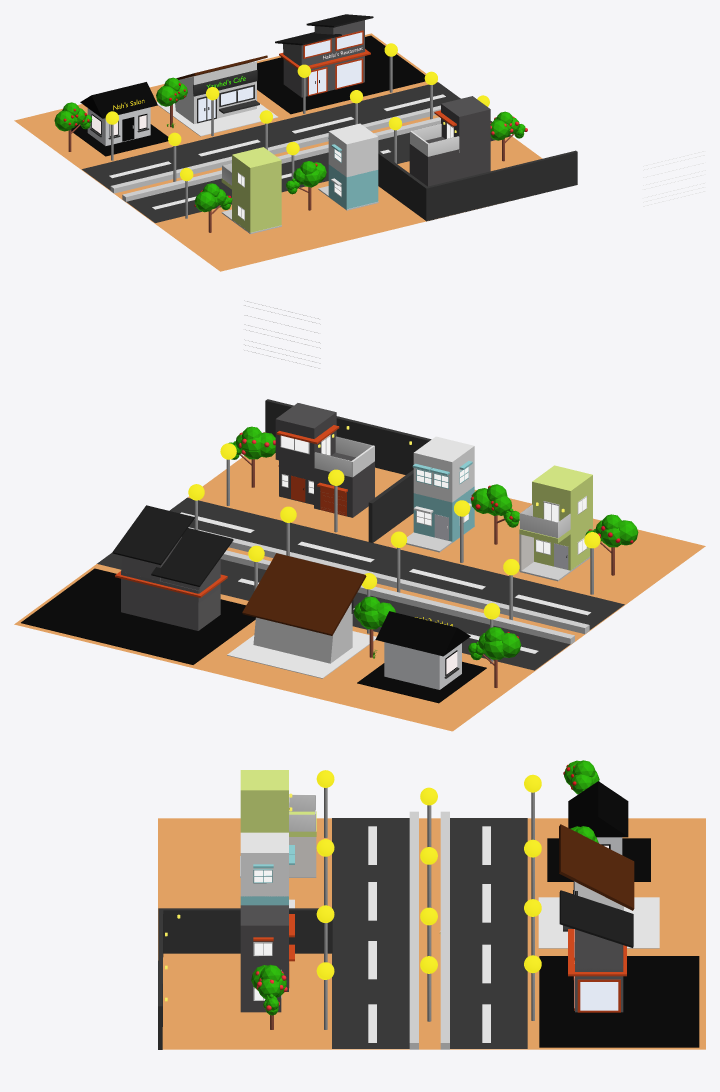
The model's file is YLestate.glb.
The picture shows the model from 3 angles, top to bottom: view 1: azimuth 30°, elevation 25°; view 2: azimuth 150°, elevation 25°; view 3: azimuth 270°, elevation 25°; orthographic projection. The views are drawn at different scales.
Parts seen in each view (by area): view 1: Plane, Plane.001, Cube.165, Cube.198, Plane.002, Cube.003, Cube.001, Cube.009, Cube.005, Cube.146, Cube.008, Cube.181 (+17 smaller); view 2: Plane, Plane.002, Cube.198, Cube.168, Plane.001, Cube.165, Cube.008, Cube.151, Cube.003, Cube.153, Cube.001, Cube.009 (+15 smaller); view 3: Plane, Plane.002, Plane.001, Cube.198, Cube.146, Cube.168, Cube.001, Cube.003, Cube.005, Cube.197, Cube.181, Cube.008 (+11 smaller).
Part boxes in pixels (x1=…): Plane: x1=14, y1=33, x2=542, y2=271; Plane.001: x1=82, y1=82, x2=460, y2=190; Cube.165: x1=428, y1=150, x2=577, y2=220; Cube.198: x1=257, y1=35, x2=425, y2=114; Plane.002: x1=126, y1=121, x2=510, y2=222; Cube.003: x1=328, y1=123, x2=378, y2=177; Cube.001: x1=232, y1=147, x2=281, y2=200; Cube.009: x1=110, y1=105, x2=440, y2=193; Cube.005: x1=441, y1=96, x2=490, y2=149; Cube.146: x1=378, y1=150, x2=428, y2=221; Cube.008: x1=122, y1=117, x2=440, y2=201; Cube.181: x1=80, y1=82, x2=157, y2=118; Plane: x1=14, y1=453, x2=705, y2=731; Plane.002: x1=169, y1=497, x2=624, y2=629; Cube.198: x1=21, y1=568, x2=255, y2=664; Cube.168: x1=242, y1=553, x2=366, y2=635; Plane.001: x1=97, y1=552, x2=569, y2=670; Cube.165: x1=265, y1=399, x2=431, y2=474; Cube.008: x1=188, y1=527, x2=589, y2=633; Cube.151: x1=112, y1=505, x2=194, y2=565; Cube.003: x1=413, y1=436, x2=474, y2=502; Cube.153: x1=151, y1=528, x2=233, y2=586; Cube.001: x1=532, y1=465, x2=592, y2=530; Cube.009: x1=220, y1=550, x2=574, y2=644; Plane: x1=158, y1=818, x2=705, y2=1049; Plane.002: x1=332, y1=818, x2=409, y2=1048; Plane.001: x1=450, y1=818, x2=527, y2=1048; Cube.198: x1=539, y1=956, x2=699, y2=1047; Cube.146: x1=158, y1=908, x2=332, y2=953; Cube.168: x1=559, y1=824, x2=634, y2=910; Cube.001: x1=240, y1=770, x2=288, y2=832; Cube.003: x1=240, y1=832, x2=288, y2=896; Cube.005: x1=240, y1=905, x2=288, y2=969; Cube.197: x1=538, y1=897, x2=659, y2=948; Cube.181: x1=568, y1=781, x2=628, y2=837; Cube.008: x1=409, y1=811, x2=418, y2=1049.
Size of the model in its own units: 17.47 by 2.75 by 18.03.
